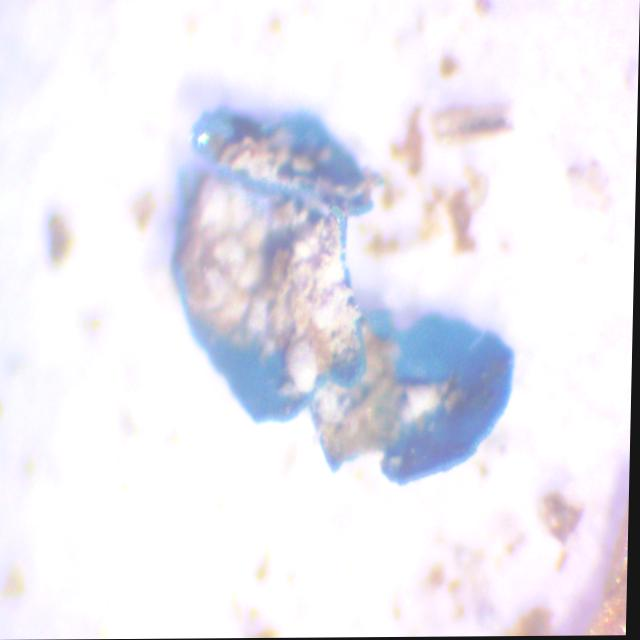microplastic: (168, 109, 514, 493)
